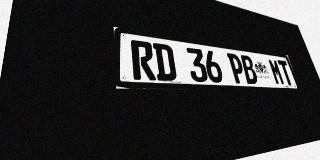3: (186, 47, 209, 82)
6: (202, 50, 224, 83)
B: (239, 55, 259, 84)
D: (153, 43, 177, 81)
M: (267, 59, 285, 85)
P: (226, 53, 247, 84)
R: (130, 40, 156, 80)
T: (277, 60, 294, 85)
